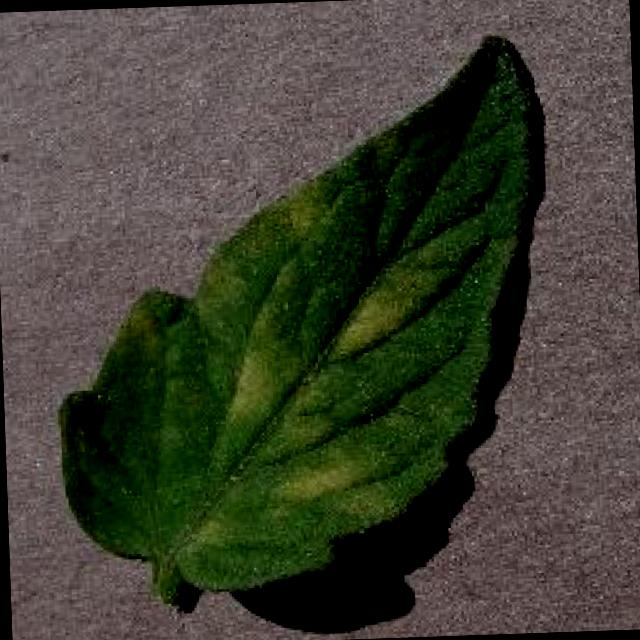leaf mold: (55, 32, 537, 608)
